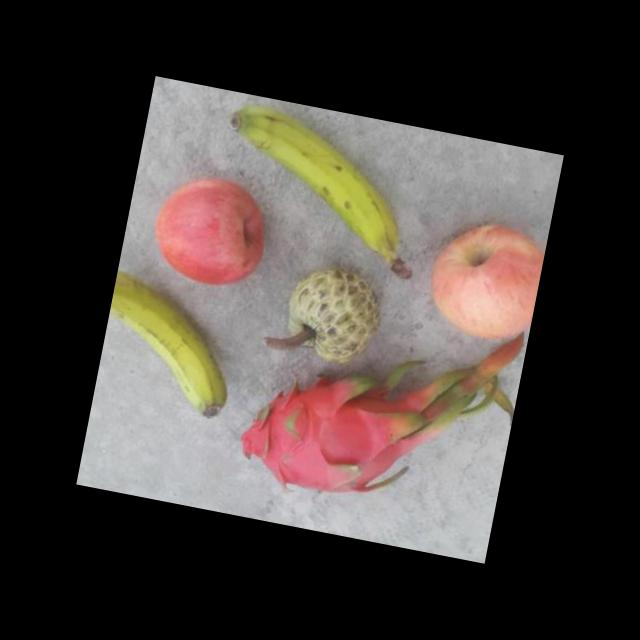Sakya fruit: (268, 256, 389, 371)
apple: (416, 206, 550, 350), (138, 164, 278, 297)
banana: (204, 98, 443, 284), (93, 272, 250, 423)
pitaya: (228, 356, 435, 522)
